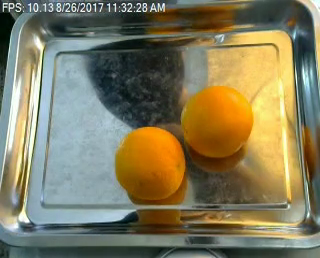Orange: (178, 86, 253, 156), (114, 126, 183, 202)
